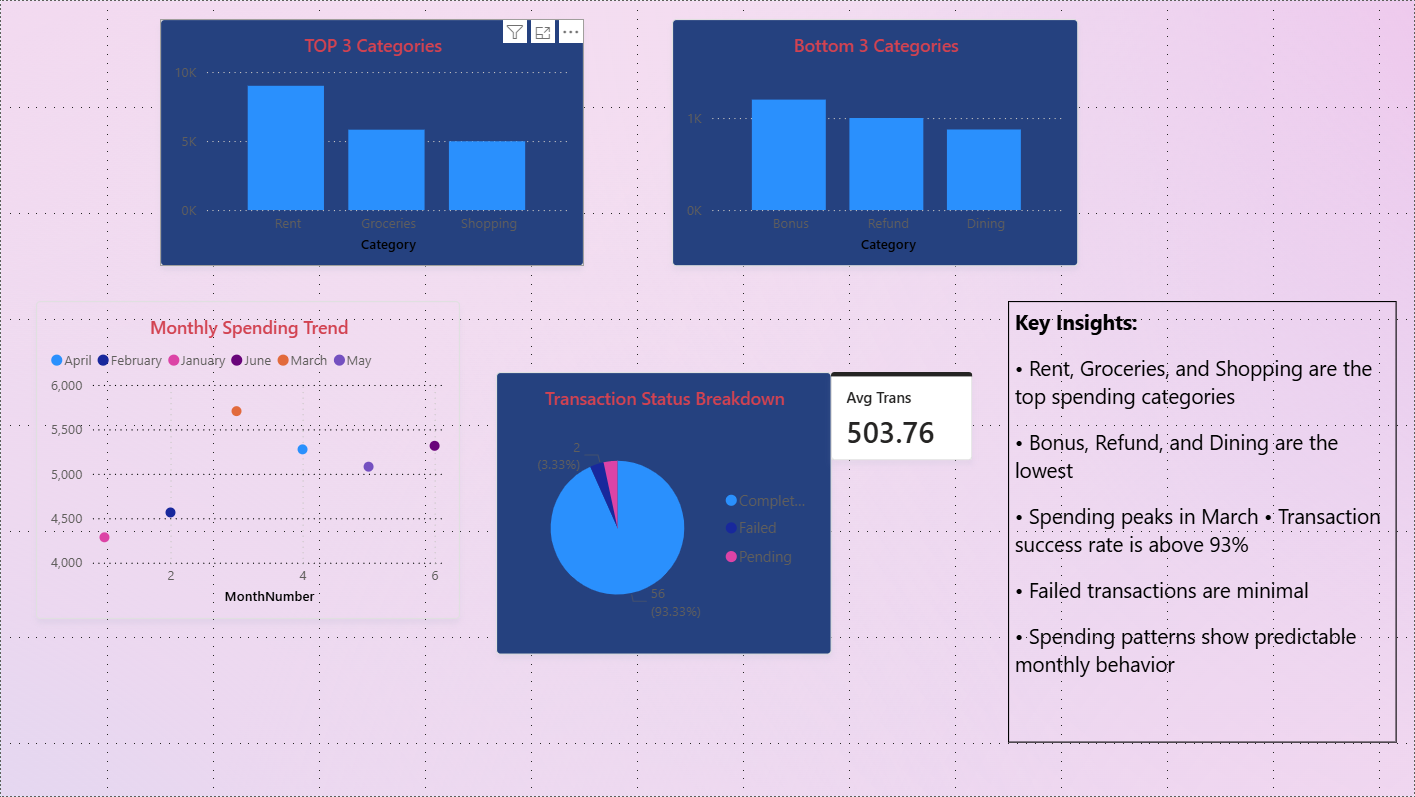

The dashboard page shown, as its layout file describes it:
{"tool":"powerbi","page":{"name":"Insights","canvas":[1280,720],"ordinal":1},"visuals":[{"type":"columnChart","title":"TOP 3 Categories","fields":{"Category":["Bank Data Set.Category"],"Y":["Bank Data Set.Total Amt"]},"box":[144,16,384,224],"z":0},{"type":"columnChart","title":"Bottom 3 Categories","fields":{"Category":["Bank Data Set.Category"],"Y":["Bank Data Set.Total Amt"]},"box":[608,16,368,224],"z":1},{"type":"lineChart","title":"Monthly Spending Trend","fields":{"Category":["DateTable.MonthNumber"],"Series":["DateTable.Month"],"Y":["Bank Data Set.Total Amt"]},"box":[32,272,384,288],"z":2},{"type":"pieChart","title":"Transaction Status Breakdown","fields":{"Category":["Bank Data Set.Status"],"Y":["Bank Data Set.Total Trans"]},"box":[448,336,304,256],"z":3},{"type":"cardVisual","fields":{"Data":["Bank Data Set.Avg Trans"]},"box":[752,336,128,80],"z":4},{"type":"textbox","box":[912,272,352,400],"z":5}]}

Visuals, with their boxes in screenshot pixels (x1, y1, x2, y2), scaled from the page's 1280x720 canvas onto the 1415x797 screenshot:
"TOP 3 Categories" columnChart: [left=159, top=18, right=584, bottom=266]
"Bottom 3 Categories" columnChart: [left=672, top=18, right=1079, bottom=266]
"Monthly Spending Trend" lineChart: [left=35, top=301, right=460, bottom=620]
"Transaction Status Breakdown" pieChart: [left=495, top=372, right=831, bottom=655]
cardVisual - Bank Data Set.Avg Trans: [left=831, top=372, right=973, bottom=460]
textbox: [left=1008, top=301, right=1397, bottom=744]
